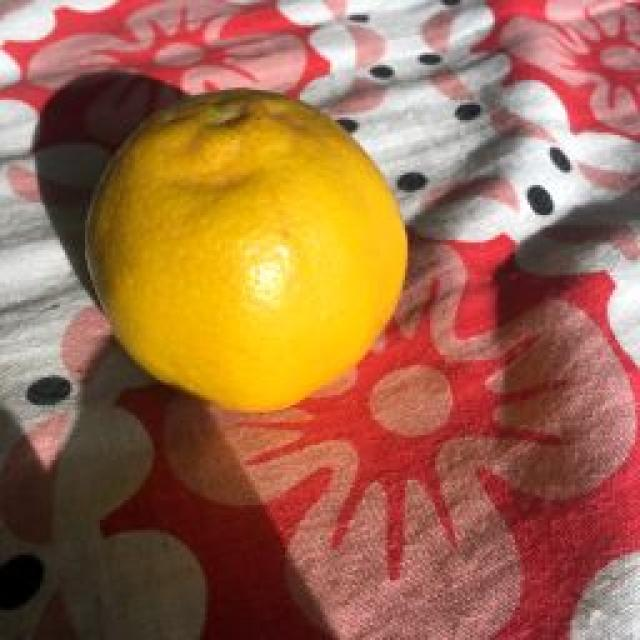Good_Orange: (85, 88, 412, 415)
